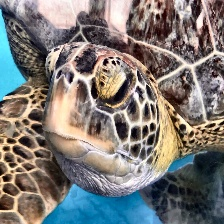seaturtle: (54, 4, 223, 182)
